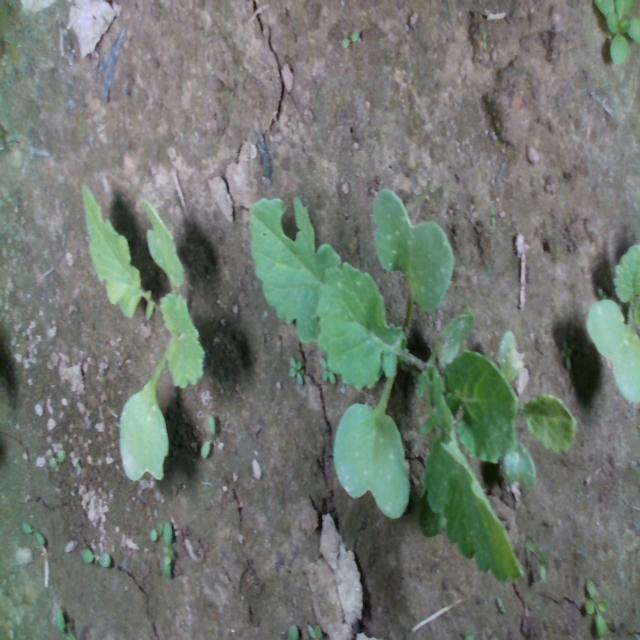weed: (585, 577, 609, 635), (84, 543, 112, 573), (162, 521, 175, 579), (339, 26, 365, 53), (200, 411, 214, 458), (288, 356, 306, 388), (21, 522, 45, 545), (48, 444, 62, 472), (147, 518, 163, 542)
